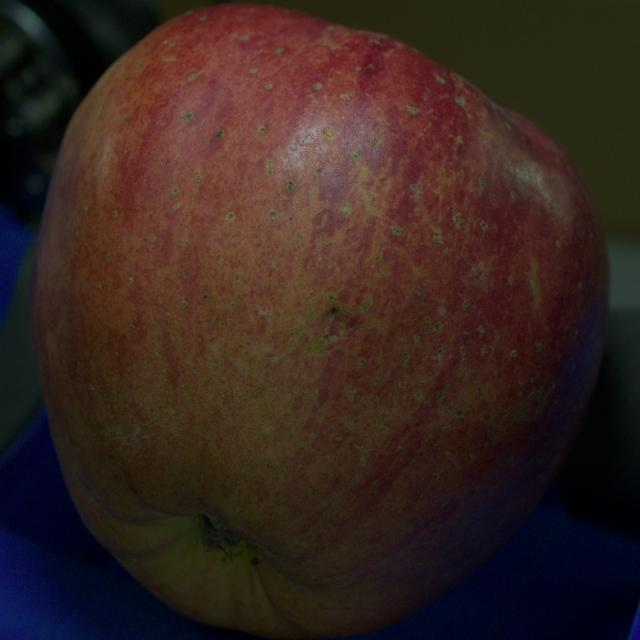apple: (32, 5, 608, 638)
pest: (250, 557, 261, 568), (332, 308, 339, 315)
